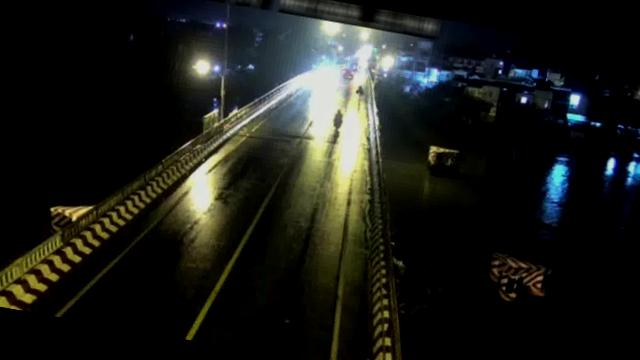Bike: (330, 106, 348, 132)
